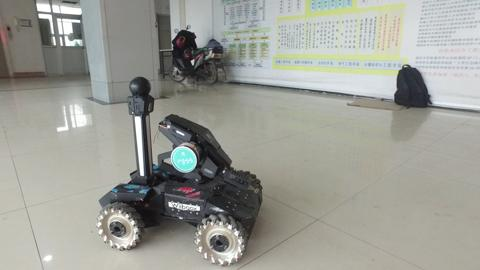bag: (388, 57, 439, 118)
chariot: (80, 70, 278, 267)
